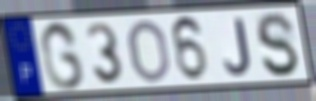3: (85, 21, 125, 85)
6: (170, 13, 213, 85)
G: (38, 19, 87, 92)
J: (222, 16, 253, 77)
O: (127, 18, 172, 85)
S: (254, 10, 301, 79)
